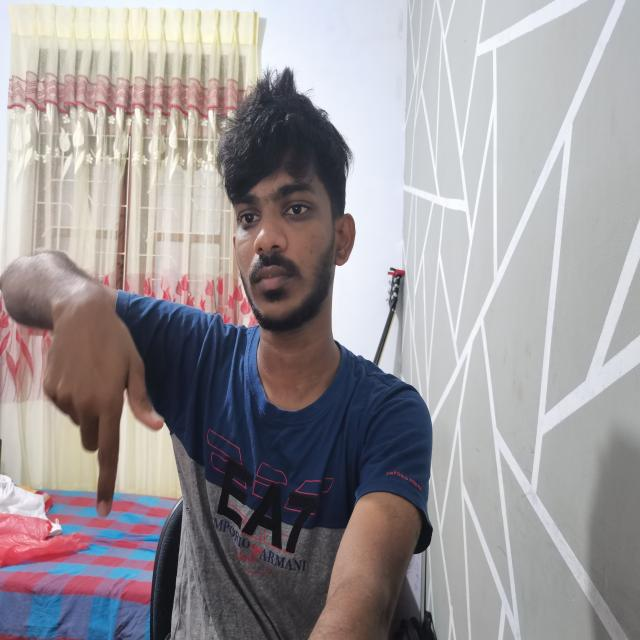Yes: (3, 232, 177, 524)
